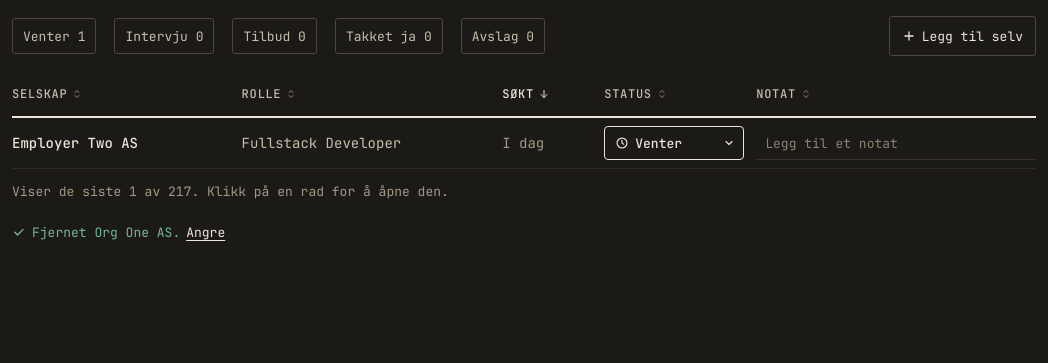
Test: applications in bokmål › should show the list without English text
Click the button "Legg til selv": (962, 36) [889,16,1036,56]
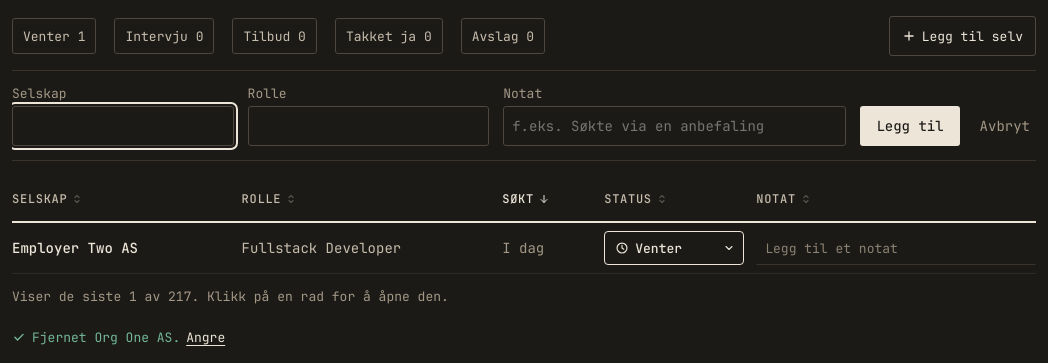
Expected: the form named "Legg til en søknad" is shown, [12,70,1036,161]
